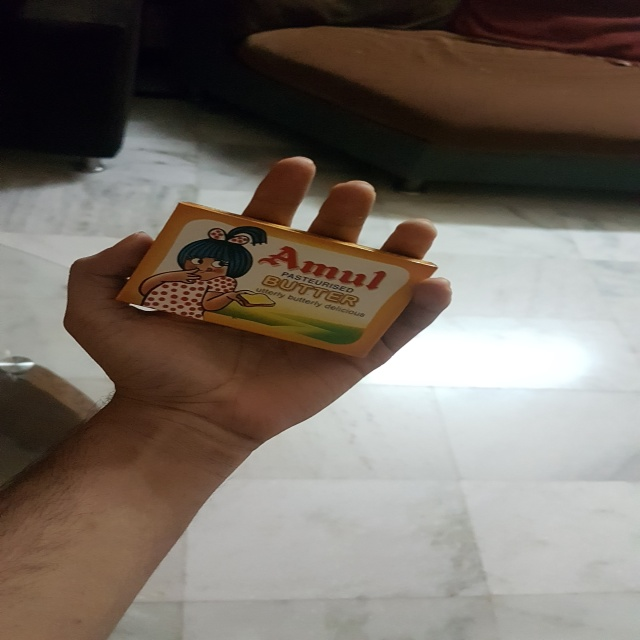butter: (115, 202, 438, 359)
